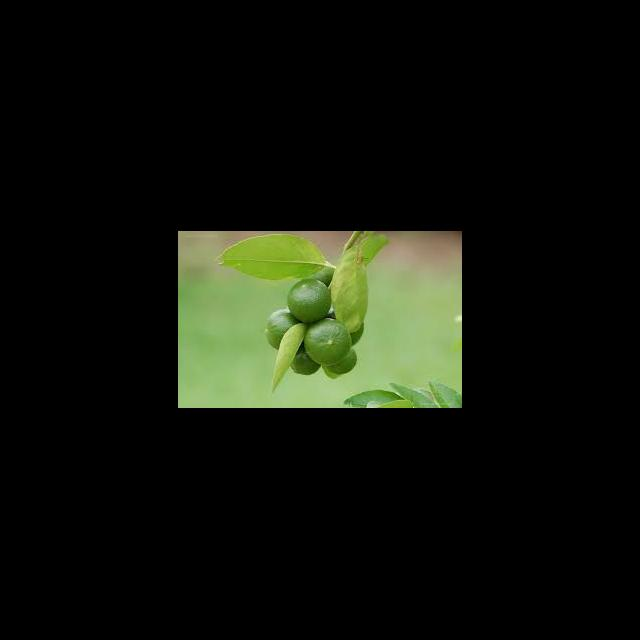lime: (282, 276, 338, 325), (304, 317, 354, 368), (262, 306, 305, 357), (287, 344, 321, 382)
